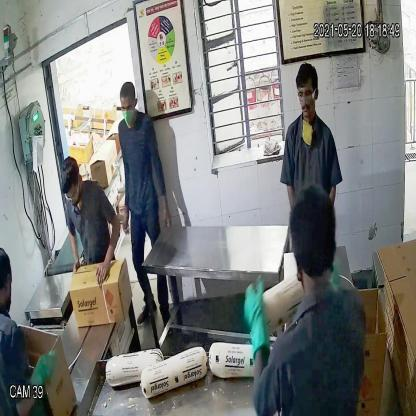goggles: (294, 86, 318, 104)
no_goggles: (120, 102, 135, 112)
